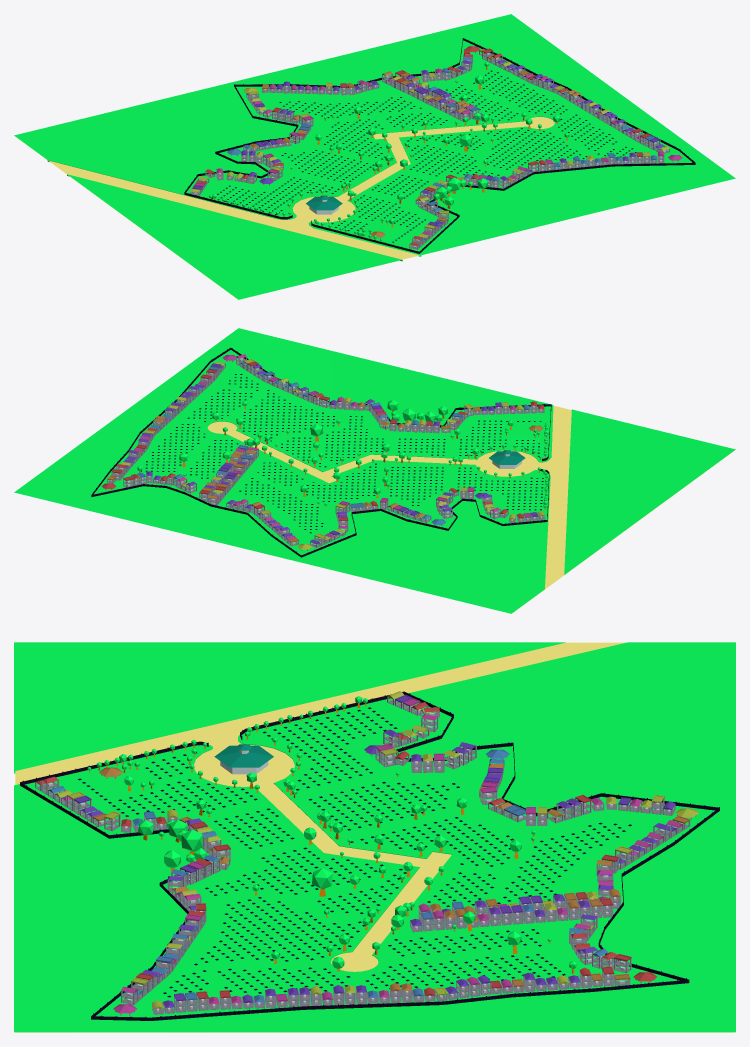
The model's file is my-3dmap.glb.
3 views of the same model, one above another, from view 1: azimuth 30°, elevation 25°; view 2: azimuth 150°, elevation 25°; view 3: azimuth 270°, elevation 25° (orthographic). The views are drawn at different scales.
Parts seen in each view (by area): view 1: 3dMap; view 2: 3dMap; view 3: 3dMap.
Boxes of the visible parts, x1=… form: 3dMap: x1=14, y1=14, x2=735, y2=299; 3dMap: x1=14, y1=328, x2=735, y2=613; 3dMap: x1=14, y1=642, x2=735, y2=1032.
Bounding box in the file's own units: 308 × 13.39 × 241.
4 materials, 4 textured.
